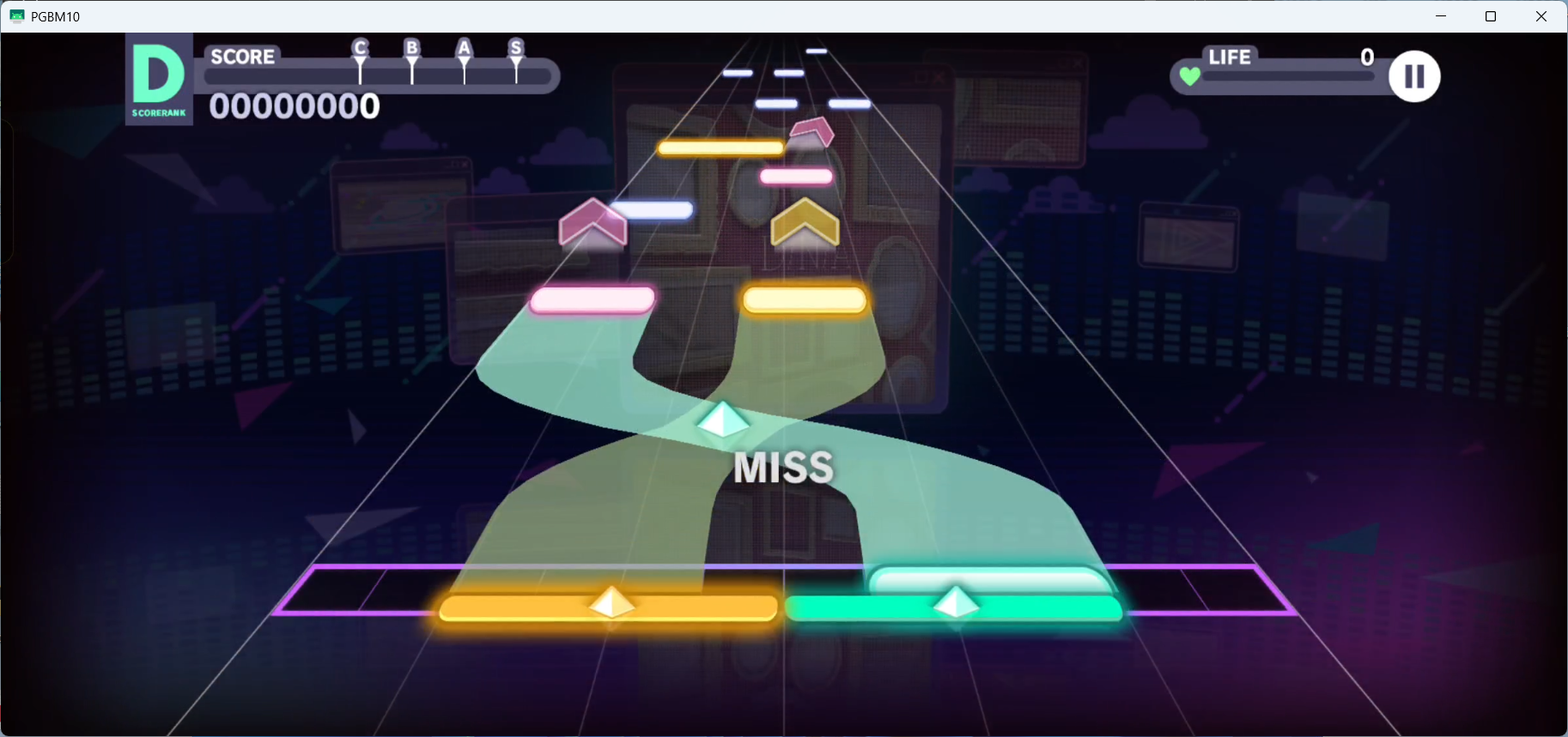flick: (558, 196, 626, 254), (770, 197, 840, 253), (782, 116, 835, 154)
hold: (475, 317, 1103, 565), (451, 315, 885, 596)
sweep: (439, 586, 779, 621), (697, 402, 750, 452)
tap: (867, 565, 1118, 596), (530, 287, 656, 315), (742, 287, 867, 314), (608, 201, 692, 220), (659, 142, 782, 154), (760, 168, 831, 184), (828, 99, 872, 109), (755, 100, 798, 108), (774, 69, 805, 76), (722, 69, 752, 76), (805, 48, 827, 54)
